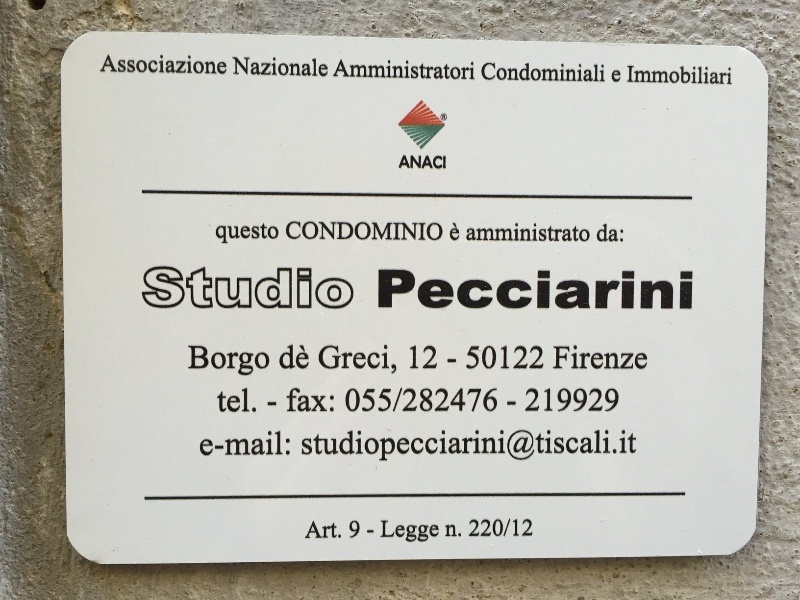text: (145, 262, 160, 312), (161, 262, 176, 312), (177, 262, 192, 312), (193, 262, 208, 312), (209, 262, 224, 312), (225, 262, 240, 312), (241, 262, 256, 312), (257, 262, 272, 312), (273, 262, 288, 312), (289, 262, 304, 312), (305, 262, 320, 312), (321, 262, 336, 312), (337, 262, 352, 312), (385, 268, 400, 313), (401, 268, 416, 313), (417, 268, 432, 313), (433, 268, 448, 313), (449, 268, 464, 313), (465, 268, 480, 313), (481, 268, 496, 313), (497, 268, 512, 313), (513, 268, 528, 313), (529, 268, 544, 313), (545, 268, 560, 313), (561, 268, 576, 313), (577, 268, 592, 313), (593, 268, 608, 313), (609, 268, 624, 313), (625, 268, 640, 313), (641, 268, 656, 313), (657, 268, 672, 313), (673, 268, 688, 313), (385, 340, 401, 377), (625, 427, 641, 463), (321, 340, 336, 377), (337, 340, 352, 377), (353, 340, 368, 377), (369, 340, 384, 377), (305, 427, 320, 463), (321, 427, 336, 463), (337, 427, 352, 463), (353, 427, 368, 463), (369, 427, 384, 463), (385, 427, 400, 463), (401, 427, 416, 463), (417, 427, 432, 463), (433, 427, 448, 463), (449, 427, 464, 463), (465, 427, 480, 463), (481, 427, 496, 463), (497, 427, 512, 463), (513, 427, 528, 463), (529, 427, 544, 463), (545, 427, 560, 463), (561, 427, 576, 463), (577, 427, 592, 463), (593, 427, 608, 463), (609, 427, 624, 463), (193, 343, 208, 378), (209, 343, 224, 378), (225, 343, 240, 378), (241, 343, 256, 378), (257, 343, 272, 378), (289, 340, 304, 373), (561, 342, 576, 372), (577, 342, 592, 372), (593, 342, 608, 372), (609, 342, 624, 372), (625, 342, 640, 372), (225, 428, 240, 457), (241, 428, 256, 457), (257, 428, 272, 457), (273, 428, 288, 457), (225, 386, 240, 414), (241, 386, 256, 414), (375, 268, 384, 313), (353, 56, 368, 82), (369, 56, 384, 82), (385, 56, 400, 82), (401, 56, 416, 82), (417, 56, 432, 82), (433, 56, 448, 82), (449, 56, 464, 82), (625, 63, 640, 89), (641, 63, 656, 89), (657, 63, 672, 89), (673, 63, 688, 89), (689, 63, 704, 89), (705, 63, 720, 89), (353, 388, 368, 414), (369, 388, 384, 414), (417, 388, 432, 414), (433, 388, 448, 414), (449, 388, 464, 414), (465, 388, 480, 414), (481, 388, 496, 414), (113, 52, 128, 77), (129, 52, 144, 77), (145, 52, 160, 77), (161, 52, 176, 77), (177, 52, 192, 77), (193, 52, 208, 77), (209, 52, 224, 77), (225, 223, 240, 248), (241, 223, 256, 248), (257, 223, 272, 248), (417, 346, 432, 371), (289, 388, 304, 413), (305, 388, 320, 413), (577, 222, 593, 245), (241, 55, 256, 79), (257, 55, 272, 79), (273, 55, 288, 79), (289, 55, 304, 79), (305, 55, 320, 79), (481, 61, 496, 85), (497, 61, 512, 85), (513, 61, 528, 85), (529, 61, 544, 85), (545, 61, 560, 85), (561, 61, 576, 85), (577, 61, 592, 85), (289, 220, 304, 244), (305, 220, 320, 244), (321, 220, 336, 244), (337, 220, 352, 244), (353, 220, 368, 244), (369, 220, 384, 244), (385, 220, 400, 244), (401, 220, 416, 244), (417, 220, 432, 244), (481, 346, 496, 370), (497, 346, 512, 370), (513, 346, 528, 370), (529, 346, 544, 370), (529, 388, 544, 412), (545, 388, 560, 412), (561, 388, 576, 412), (577, 388, 592, 412), (593, 388, 608, 412), (385, 520, 400, 544), (401, 520, 416, 544), (417, 520, 432, 544), (481, 222, 496, 245), (497, 222, 512, 245), (513, 222, 528, 245), (529, 222, 544, 245), (545, 222, 560, 245), (561, 222, 576, 245), (609, 221, 624, 244), (339, 56, 352, 82), (403, 388, 416, 414), (321, 388, 334, 413), (401, 151, 416, 172), (417, 151, 432, 172), (689, 268, 696, 313), (183, 343, 192, 378), (465, 56, 477, 82), (593, 61, 606, 85), (721, 63, 733, 89), (353, 262, 359, 312), (641, 342, 651, 372), (433, 151, 447, 172), (468, 346, 480, 370), (468, 222, 480, 245), (596, 221, 608, 244), (321, 522, 336, 540), (481, 519, 496, 537), (497, 519, 512, 537), (513, 519, 528, 537), (433, 220, 444, 244), (449, 222, 461, 244), (280, 340, 288, 373), (102, 52, 112, 77), (609, 388, 619, 412), (553, 342, 560, 372), (449, 525, 464, 539), (216, 223, 224, 248), (305, 340, 311, 373), (232, 55, 240, 79), (321, 55, 329, 79), (611, 69, 624, 83), (345, 388, 352, 414), (470, 519, 480, 537), (273, 223, 280, 248), (409, 346, 416, 371), (218, 386, 224, 414), (433, 520, 440, 544), (311, 522, 320, 540), (385, 388, 391, 414), (394, 387, 400, 413), (353, 520, 360, 541), (300, 427, 304, 463), (201, 439, 208, 457), (337, 522, 343, 540), (529, 519, 535, 537), (225, 52, 229, 77), (142, 262, 144, 312), (433, 346, 437, 371), (380, 520, 384, 544), (209, 439, 214, 457), (401, 387, 403, 413), (286, 388, 288, 413), (526, 388, 528, 412), (350, 520, 352, 541), (445, 525, 448, 539), (214, 446, 224, 450), (319, 340, 320, 377), (507, 401, 512, 407), (289, 428, 290, 457), (449, 359, 456, 363), (257, 386, 258, 414), (497, 388, 498, 414), (479, 61, 480, 85), (287, 220, 288, 244), (442, 115, 448, 119), (268, 401, 272, 407), (273, 401, 277, 407), (369, 530, 375, 534), (625, 221, 626, 244), (399, 151, 400, 172), (513, 401, 516, 407), (367, 530, 368, 534)
